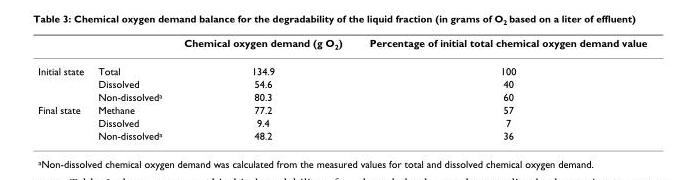table: (37, 36, 646, 141)
table column: (355, 36, 646, 141), (172, 36, 355, 141), (90, 36, 172, 141), (37, 36, 90, 141)
table column header: (37, 36, 646, 57)
table row: (37, 36, 646, 57), (37, 57, 646, 77), (37, 77, 646, 90), (37, 90, 646, 103), (37, 103, 646, 116), (37, 128, 646, 141), (37, 116, 646, 128)
table spanning cell: (37, 57, 90, 103), (37, 103, 90, 141)
